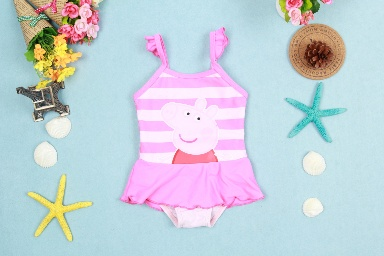Peppa: (157, 95, 225, 164)
